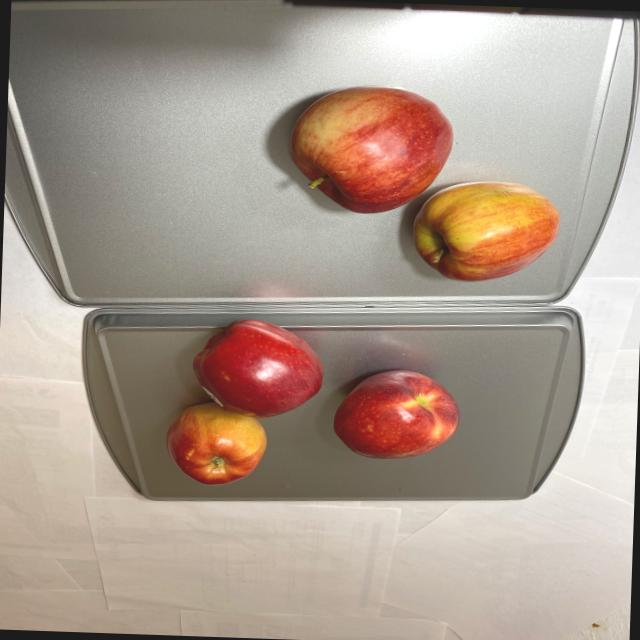apple: (275, 85, 565, 288), (162, 322, 465, 494)
